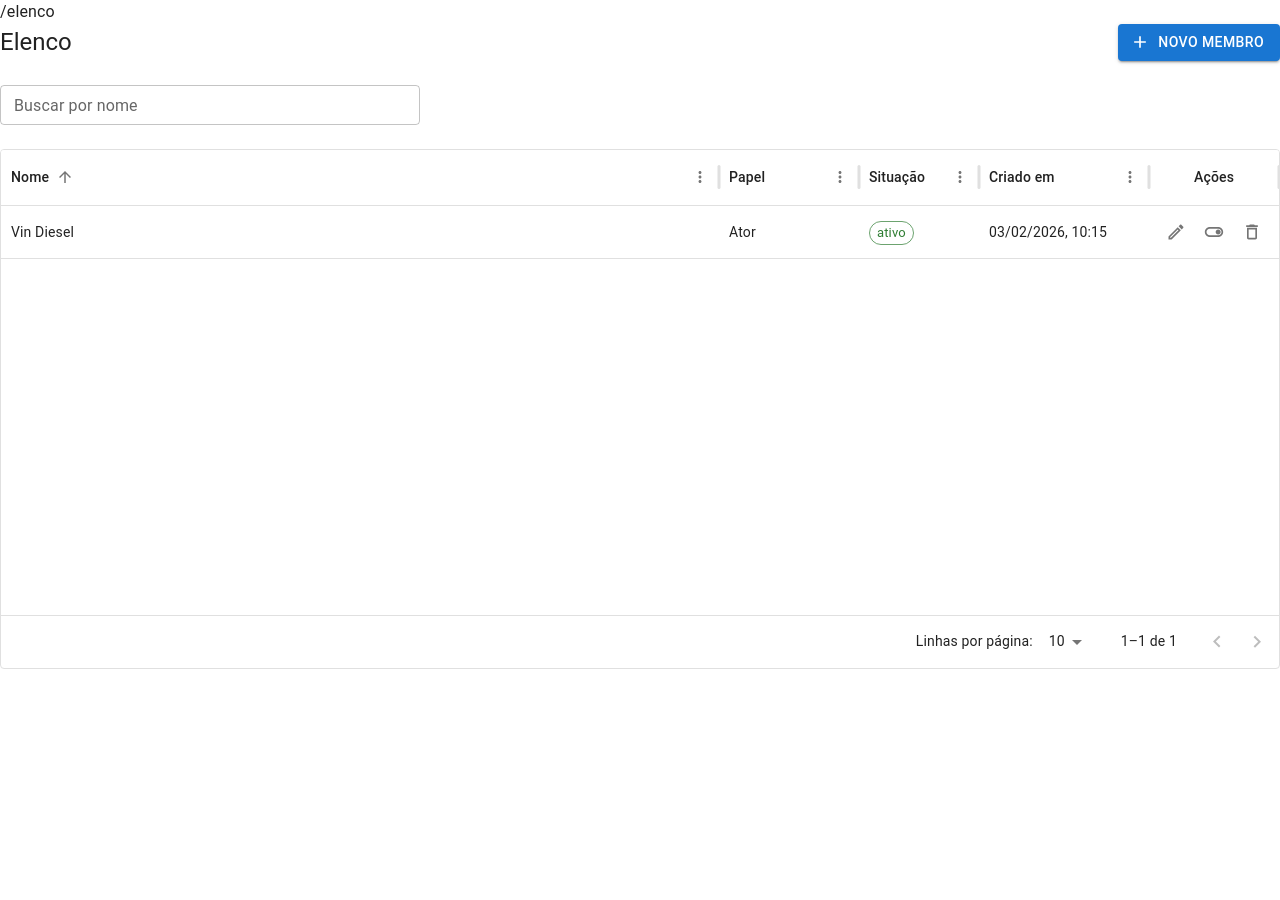
Test: CastMemberList › givenUmMembro_whenClicaEmRemover_thenPerguntaAntesDeChamar
Expected: the text "Vin Diesel" is shown, left=11, top=224, right=74, bottom=240
Click the menu item named "Remover": (1252, 232) left=1237, top=217, right=1267, bottom=247
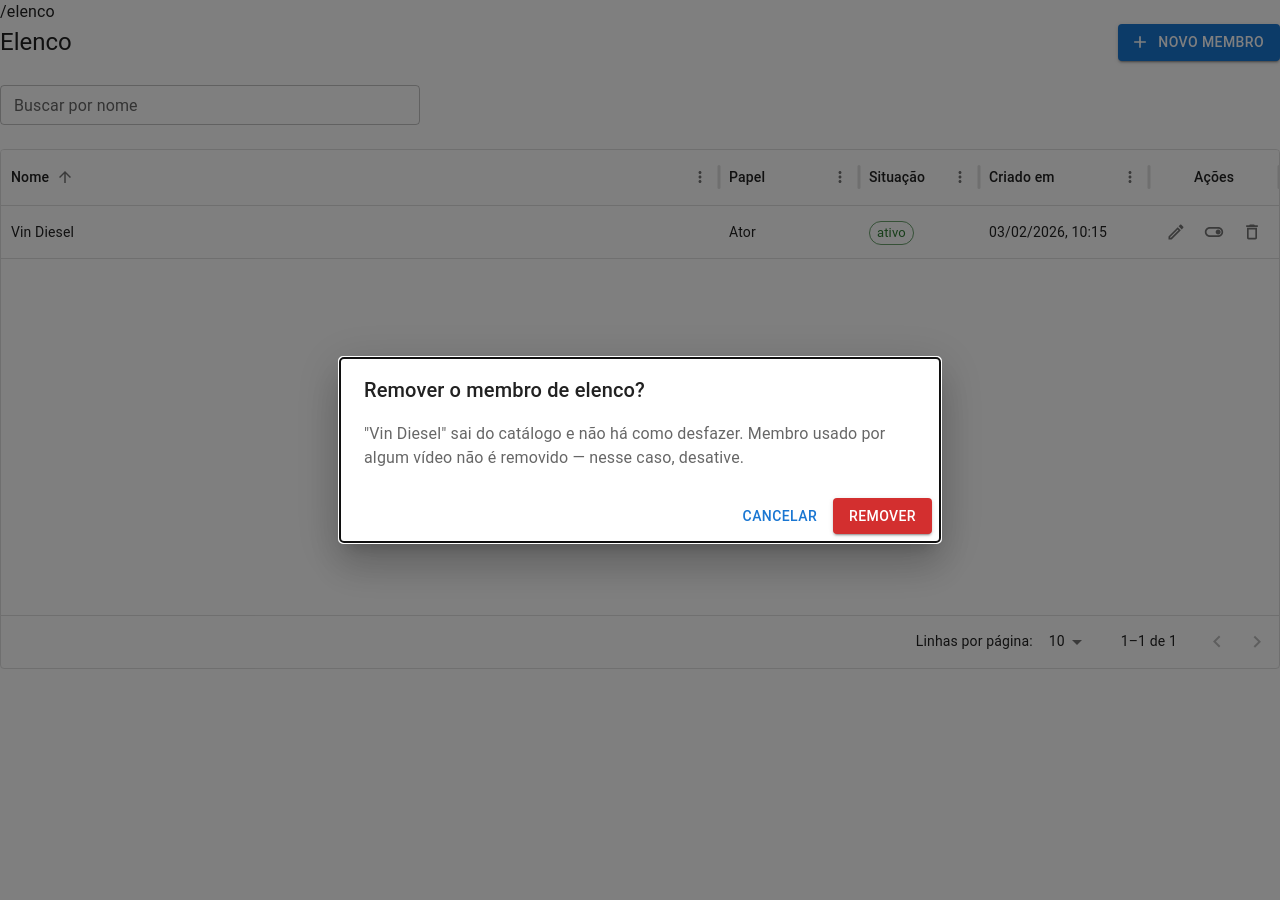
Expected: the heading "Remover o membro de elenco?" is shown, left=364, top=378, right=645, bottom=402
